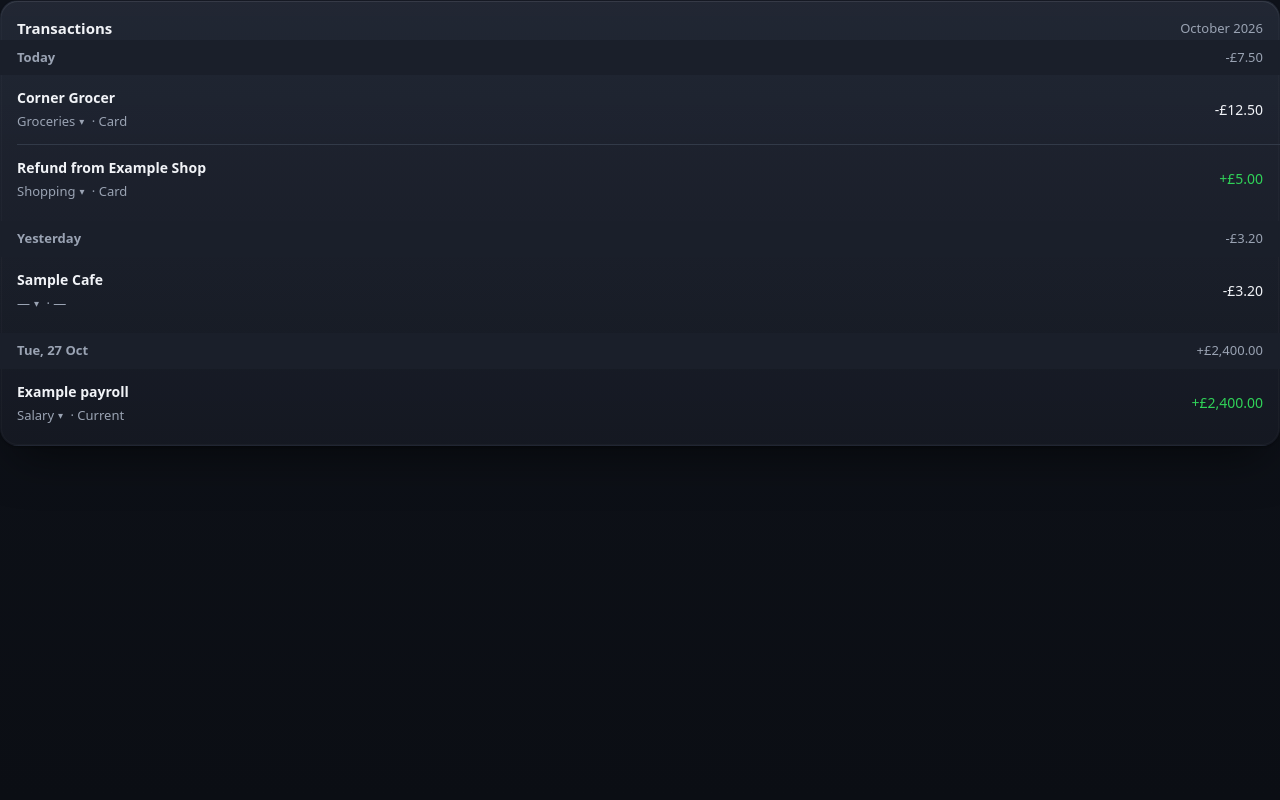
Test case: changing a category › offers no Undo when the row had no category before
What coordinates should you click on to do the following:
click the button named "Change category for Sample Cafe, now none"
I would click on:
 (28, 303)
Its box is [13, 290, 43, 317].
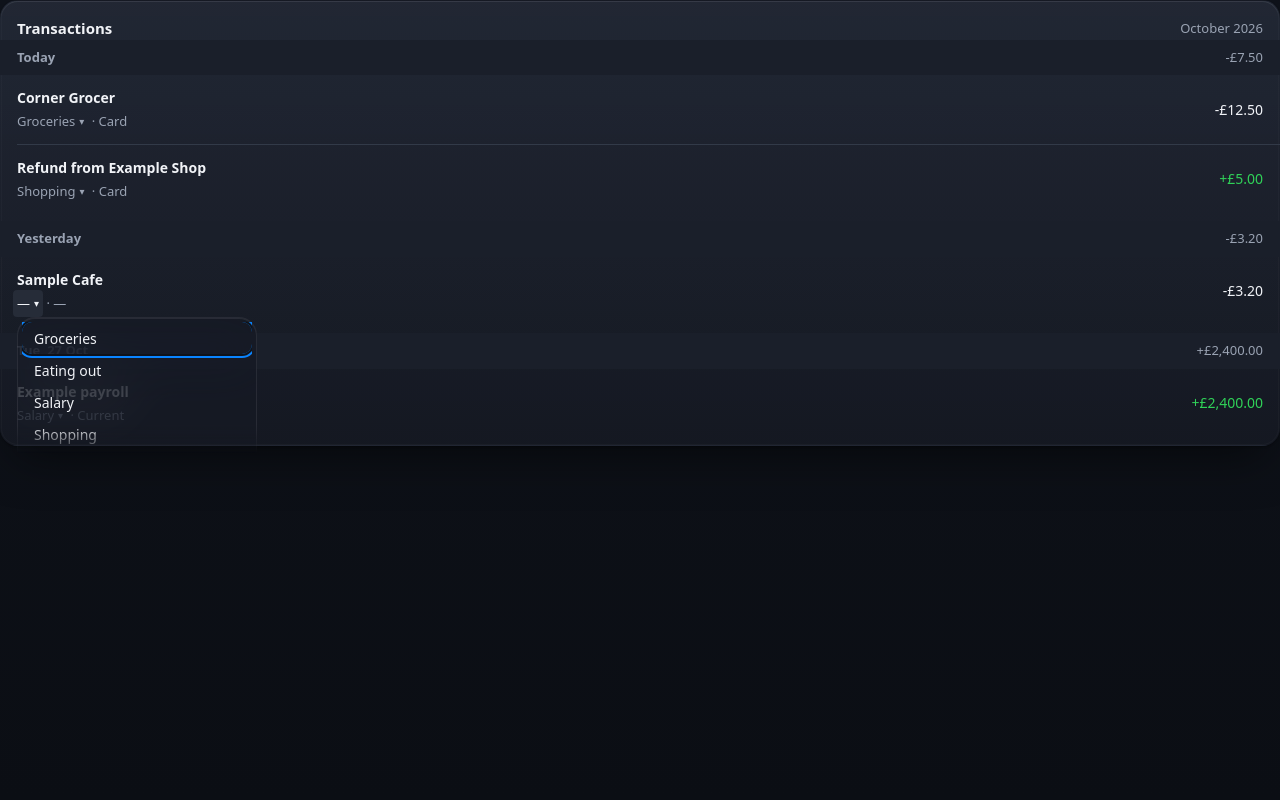
What coordinates should you click on to do the following:
click the button "Salary"
I would click on:
 (137, 402)
Its box is [22, 386, 252, 418].
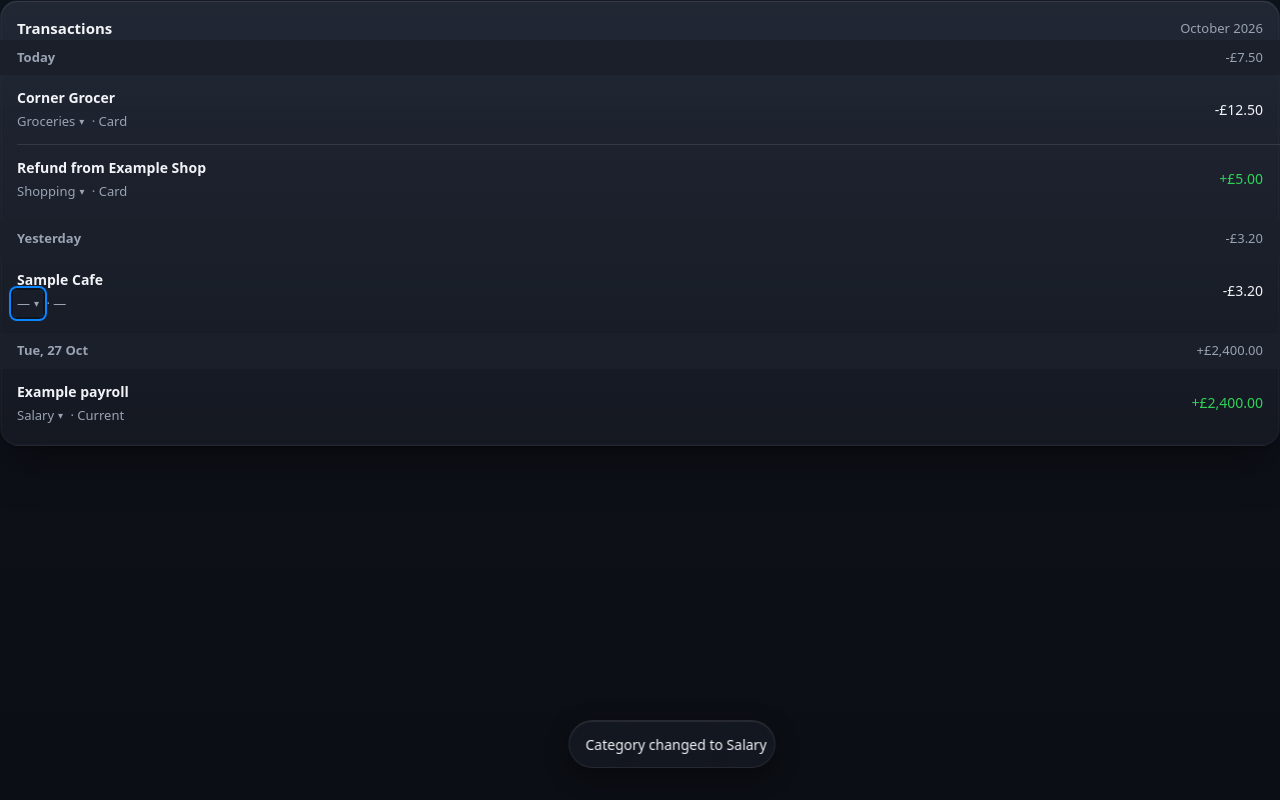
expect the message reads "Category changed to Salary": met, box [586, 734, 766, 754]
